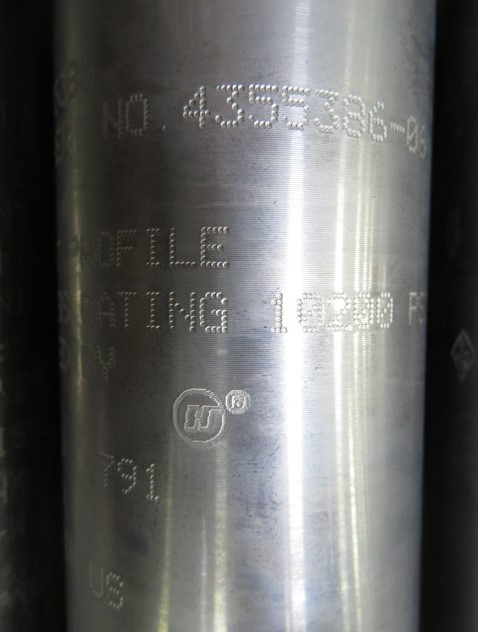character: (196, 220, 236, 271), (280, 81, 312, 137), (215, 80, 249, 131), (199, 286, 232, 337), (164, 223, 198, 272), (251, 79, 280, 136), (165, 288, 199, 335), (296, 287, 325, 340), (338, 92, 368, 142), (183, 84, 213, 133), (374, 289, 404, 337), (264, 286, 291, 338), (312, 87, 341, 135), (324, 289, 354, 334), (124, 93, 152, 138), (350, 288, 378, 333), (114, 228, 141, 272), (115, 287, 140, 334), (99, 97, 126, 139), (367, 97, 390, 145), (144, 224, 166, 269), (96, 287, 117, 334), (142, 288, 163, 333)
